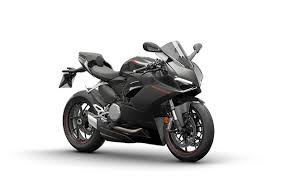motorcycle: (59, 39, 216, 164)
